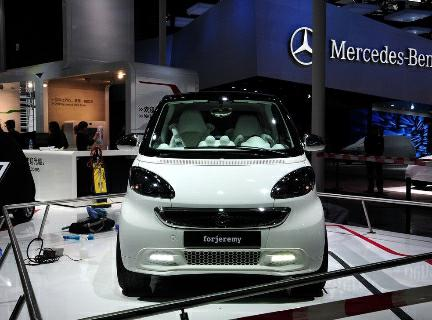smart-forjeremy: (116, 97, 328, 297)
